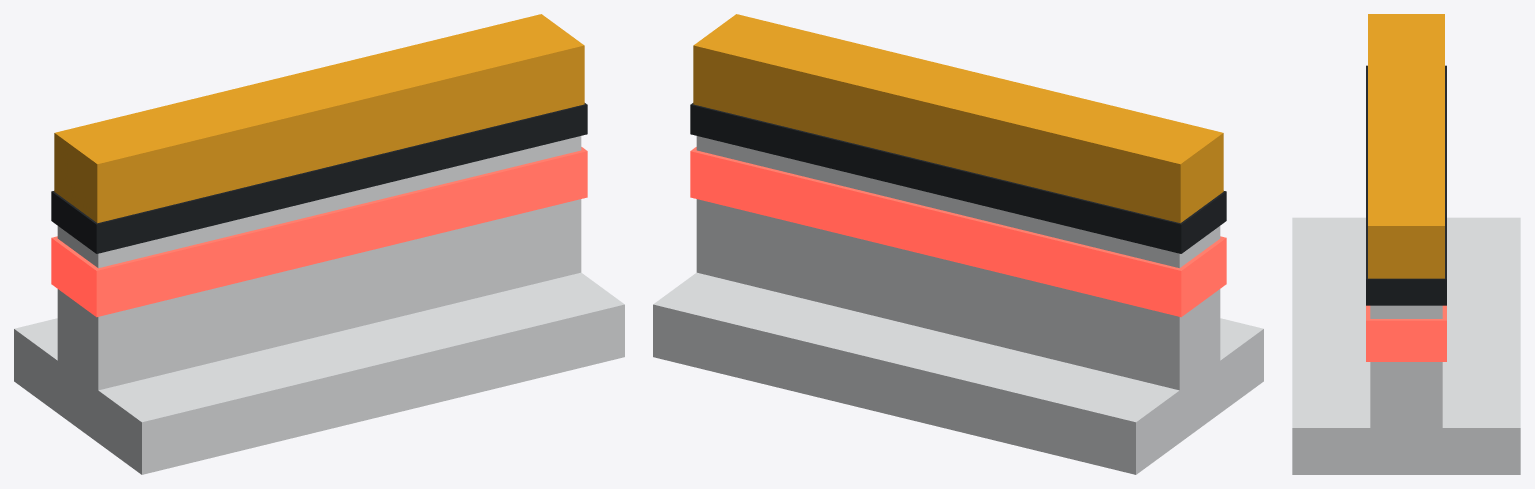
File: road-barrier.glb
3 views of the same model, side by side, from view 1: azimuth 30°, elevation 25°; view 2: azimuth 150°, elevation 25°; view 3: azimuth 270°, elevation 25° (orthographic). The views are drawn at different scales.
Visible parts, largest first — view 1: road-barrier; view 2: road-barrier; view 3: road-barrier.
Part boxes in pixels (x1=…): road-barrier: x1=14, y1=14, x2=624, y2=474; road-barrier: x1=653, y1=14, x2=1263, y2=474; road-barrier: x1=1292, y1=14, x2=1520, y2=474.
Bounding box in the file's own units: 2.44 × 1.33 × 1.1.
